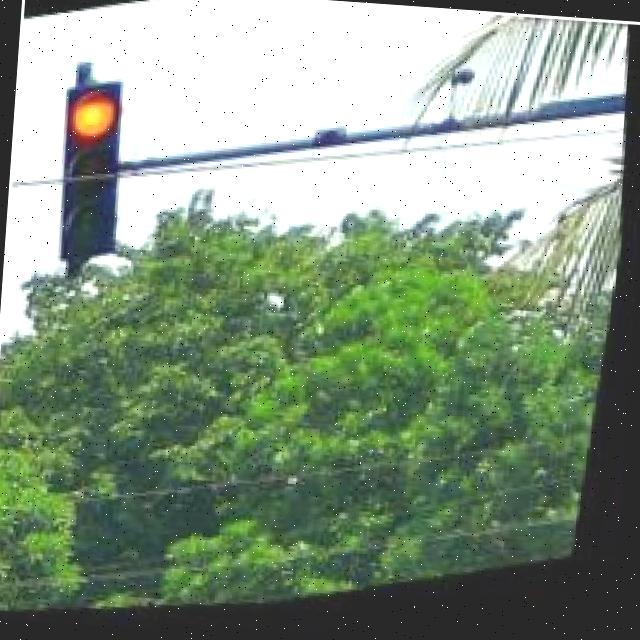red_light: (41, 72, 142, 267)
